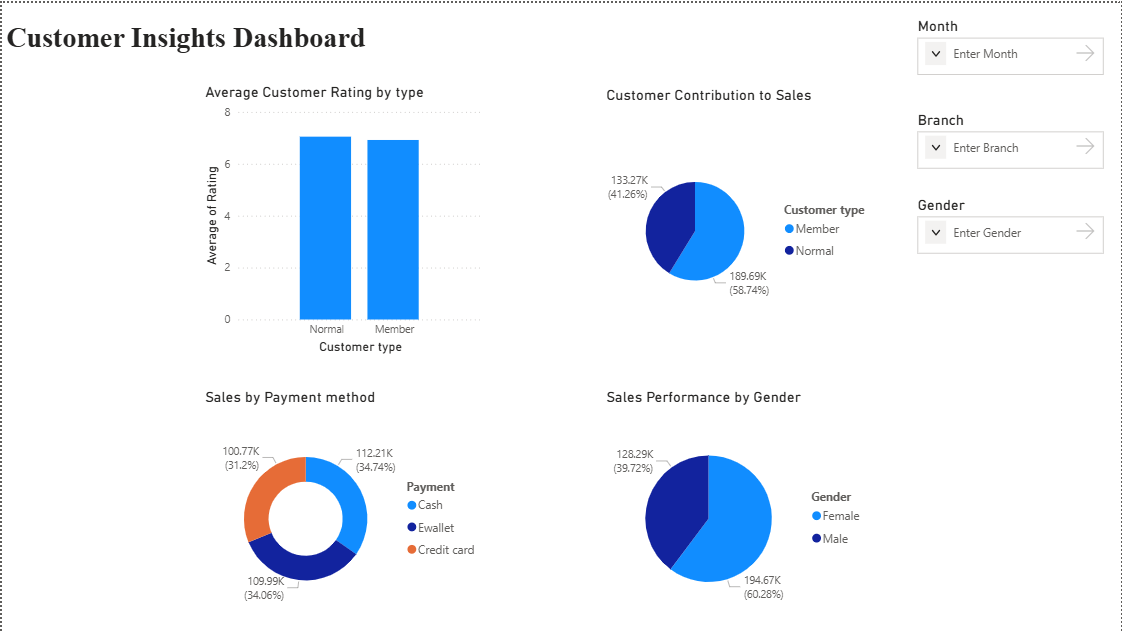

The dashboard page shown, as its layout file describes it:
{"tool":"powerbi","page":{"name":"Customer Insights Dashboard","canvas":[1280,720],"ordinal":2},"visuals":[{"type":"clusteredColumnChart","title":"Average Customer Rating by type","fields":{"Y":["Avg(SuperMarket Analysis.Rating)"],"Category":["SuperMarket Analysis.Customer type"]},"box":[227.1,91.4,327.1,314.3],"z":0},{"type":"pieChart","title":"Sales Performance by Gender","fields":{"Category":["SuperMarket Analysis.Gender"],"Y":["Sum(SuperMarket Analysis.Sales)"]},"box":[685.7,440,310,280],"z":1000},{"type":"donutChart","title":"Sales by Payment method","fields":{"Category":["SuperMarket Analysis.Payment"],"Y":["Sum(SuperMarket Analysis.Sales)"]},"box":[227.1,440,327.1,280],"z":2000},{"type":"pieChart","title":"Customer Contribution to Sales","fields":{"Category":["SuperMarket Analysis.Customer type"],"Y":["Sum(SuperMarket Analysis.Sales)"]},"box":[685.7,94.3,310,314.3],"z":3000},{"type":"textSlicer","fields":{"Values":["SuperMarket Analysis.Month"]},"box":[1041.2,15,222.5,71.2],"z":4000},{"type":"textSlicer","fields":{"Values":["SuperMarket Analysis.Branch"]},"box":[1041.2,122.5,222.5,71.2],"z":5000},{"type":"textSlicer","fields":{"Values":["SuperMarket Analysis.Gender"]},"box":[1041.2,220,222.5,71.2],"z":6000},{"type":"textbox","box":[1041,395.5,223,150],"z":7000},{"type":"textbox","box":[0,15.7,468.6,52.9],"z":8000}]}

Visuals, with their boxes in screenshot pixels (x1, y1, x2, y2), scaled from the page's 1280x720 canvas onto the 1122x631 screenshot:
"Average Customer Rating by type" clusteredColumnChart: <region>199, 80, 486, 356</region>
"Sales Performance by Gender" pieChart: <region>601, 386, 873, 630</region>
"Sales by Payment method" donutChart: <region>199, 386, 486, 630</region>
"Customer Contribution to Sales" pieChart: <region>601, 83, 873, 358</region>
textSlicer - SuperMarket Analysis.Month: <region>913, 13, 1108, 76</region>
textSlicer - SuperMarket Analysis.Branch: <region>913, 107, 1108, 170</region>
textSlicer - SuperMarket Analysis.Gender: <region>913, 193, 1108, 255</region>
textbox: <region>913, 347, 1108, 478</region>
textbox: <region>0, 14, 411, 60</region>
